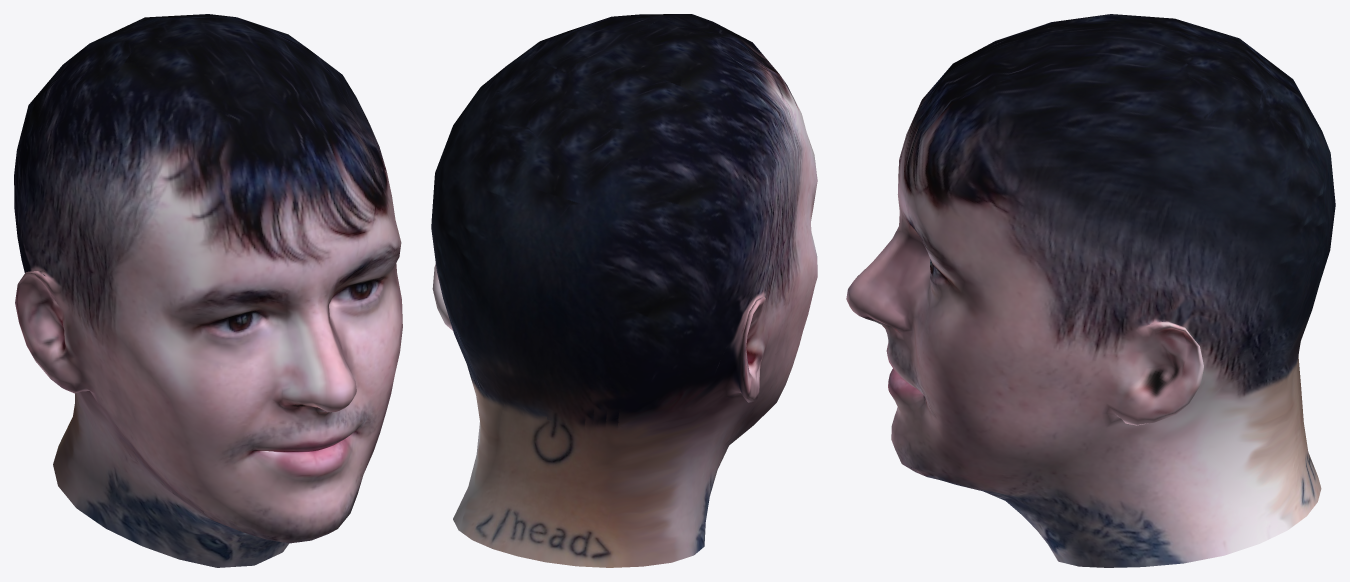
Rendered from head.dae.
The picture shows the model from 3 angles, left to right: view 1: azimuth 30°, elevation 25°; view 2: azimuth 150°, elevation 25°; view 3: azimuth 270°, elevation 25°; orthographic projection.
Parts seen in each view (by area): view 1: FaceBuilderHead; view 2: FaceBuilderHead; view 3: FaceBuilderHead.
Part boxes in pixels (box(x1,y1,x2,y2)): FaceBuilderHead: box(14, 14, 402, 567); FaceBuilderHead: box(431, 14, 817, 567); FaceBuilderHead: box(846, 14, 1335, 567).
Bounding box in the file's own units: 12.48 × 16.95 × 19.57.
1 material, 1 textured.
